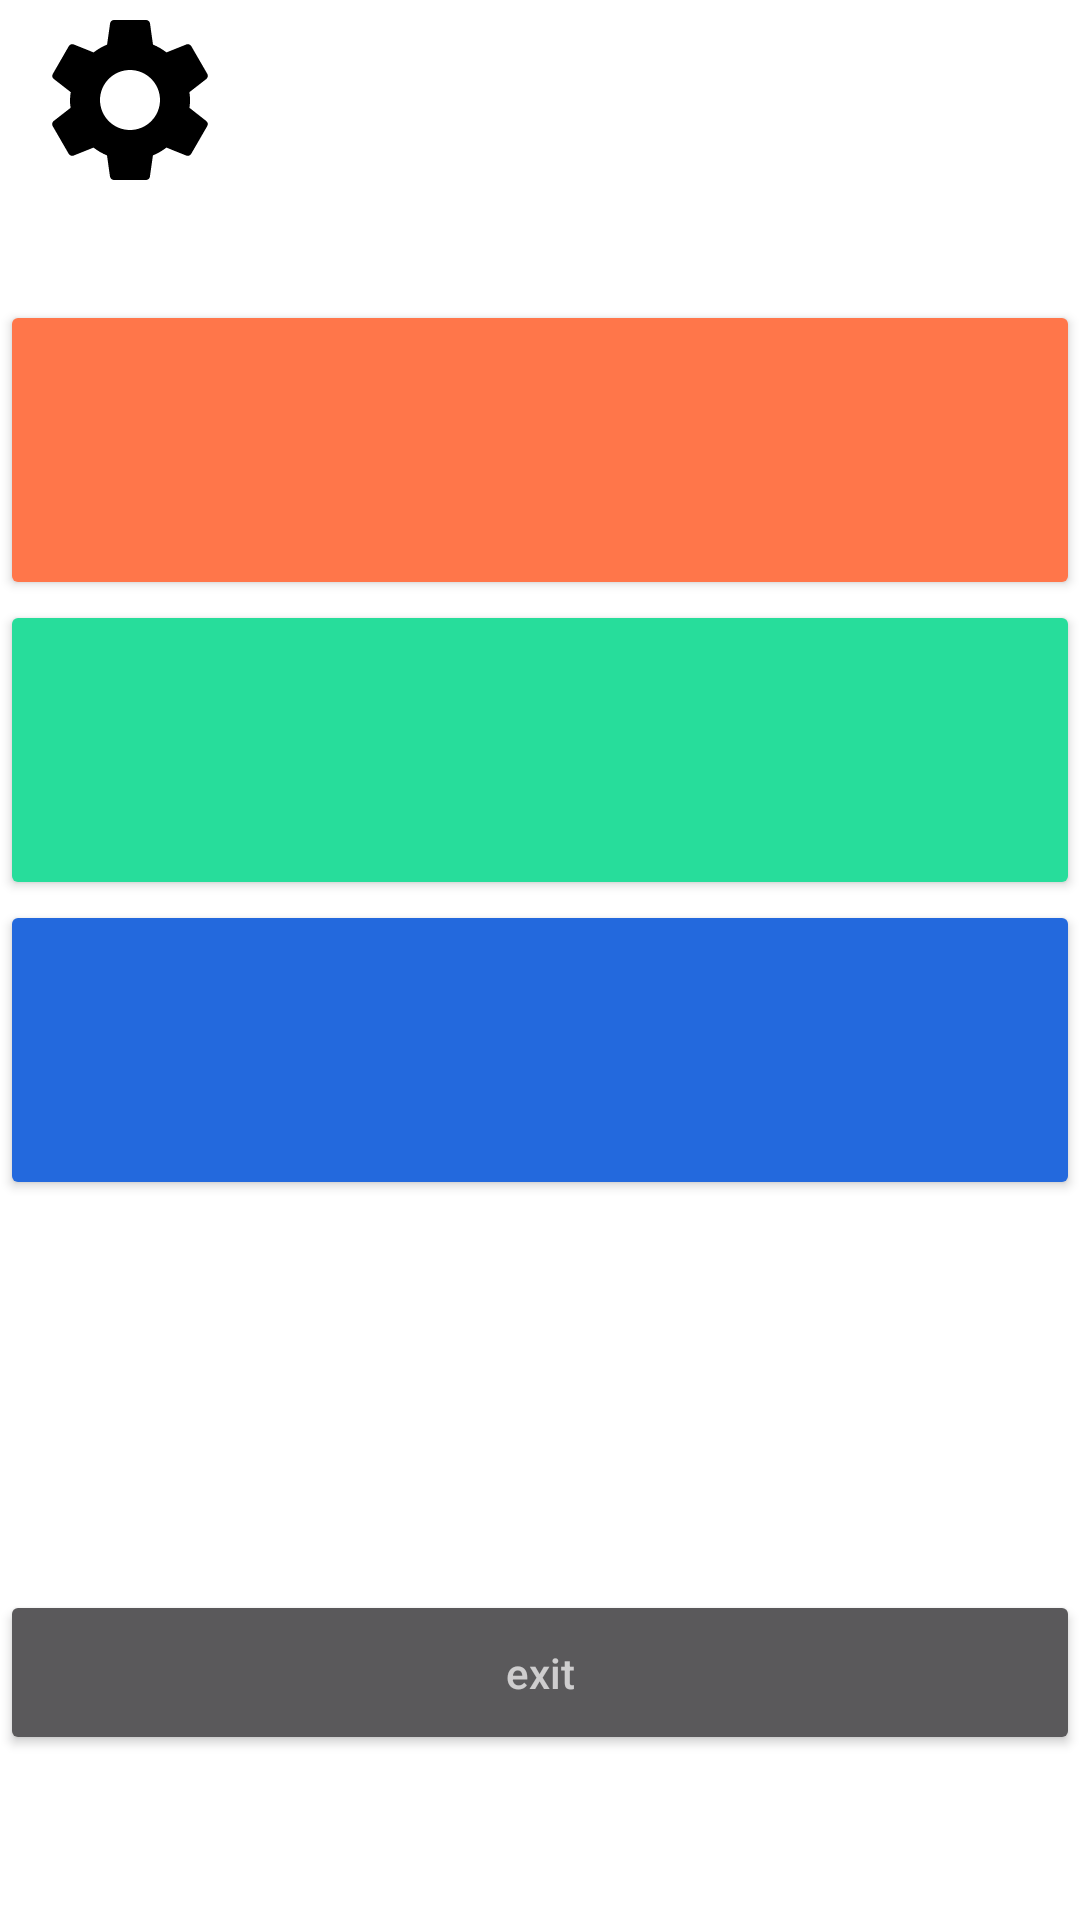

Screen size 1080px x 1920px. Icon name, then its center in pixels as [x,y]:
settings: [130,100]
